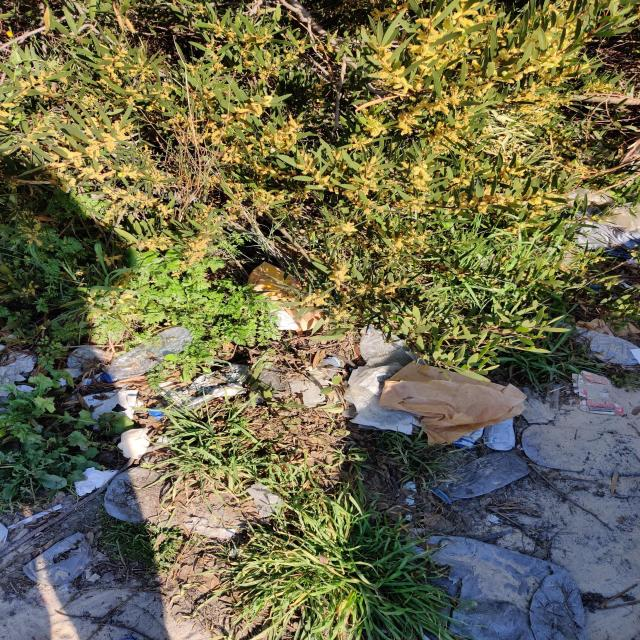litter: (402, 538, 586, 639), (105, 468, 284, 539), (379, 361, 528, 445), (343, 348, 430, 432), (247, 262, 333, 331), (523, 424, 637, 475), (155, 363, 251, 418), (432, 451, 531, 504), (106, 326, 196, 381), (564, 202, 636, 259), (22, 532, 92, 585), (556, 322, 637, 363), (571, 371, 623, 416), (82, 390, 138, 431), (358, 326, 414, 362), (175, 368, 246, 395), (517, 385, 560, 423), (0, 355, 36, 397), (7, 504, 62, 531), (73, 467, 119, 496), (484, 417, 515, 452), (116, 429, 151, 460), (66, 346, 105, 368), (452, 428, 484, 448), (99, 372, 116, 385), (147, 407, 163, 420), (318, 358, 338, 368), (328, 357, 341, 367)
